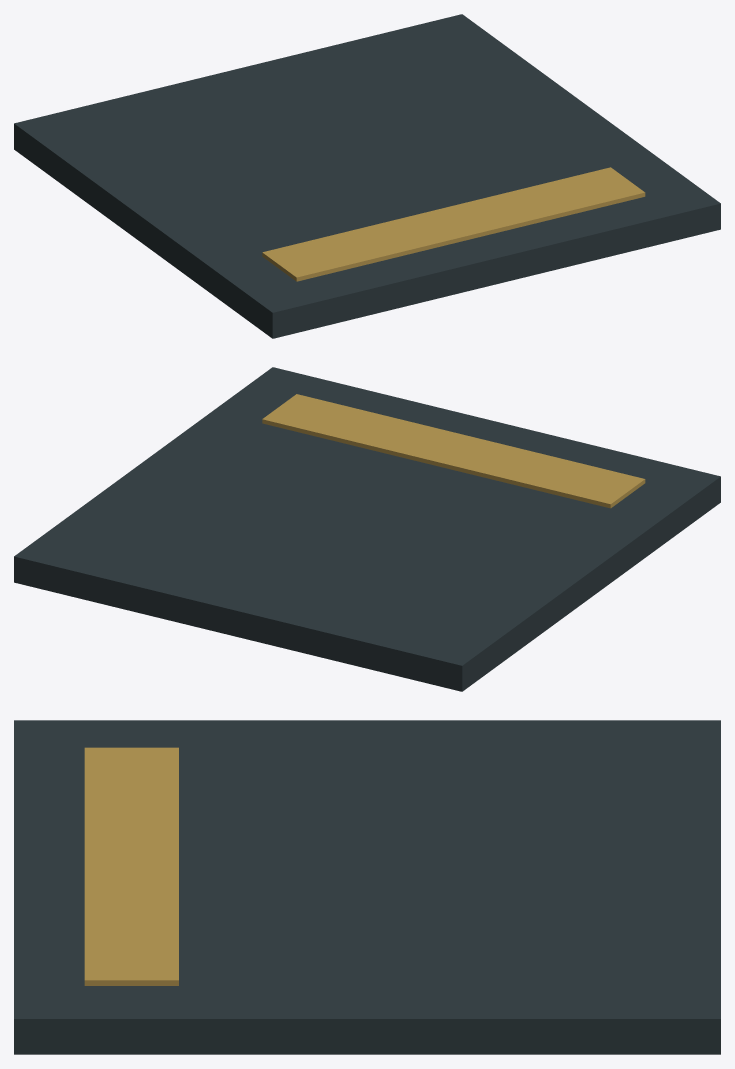
The model's file is hookup-marker-lod0.67294392fe62.glb.
3 renders of one model, top to bottom at view 1: azimuth 30°, elevation 25°; view 2: azimuth 150°, elevation 25°; view 3: azimuth 270°, elevation 25°, orthographic. The views are drawn at different scales.
Visible parts, largest first — view 1: body; view 2: body; view 3: body.
Part boxes in pixels (left/top/right/bottom): body: left=14, top=14, right=720, bottom=338; body: left=14, top=367, right=720, bottom=691; body: left=14, top=720, right=720, bottom=1054.
Bounding box in the file's own units: 0.9 × 0.058 × 0.9.
